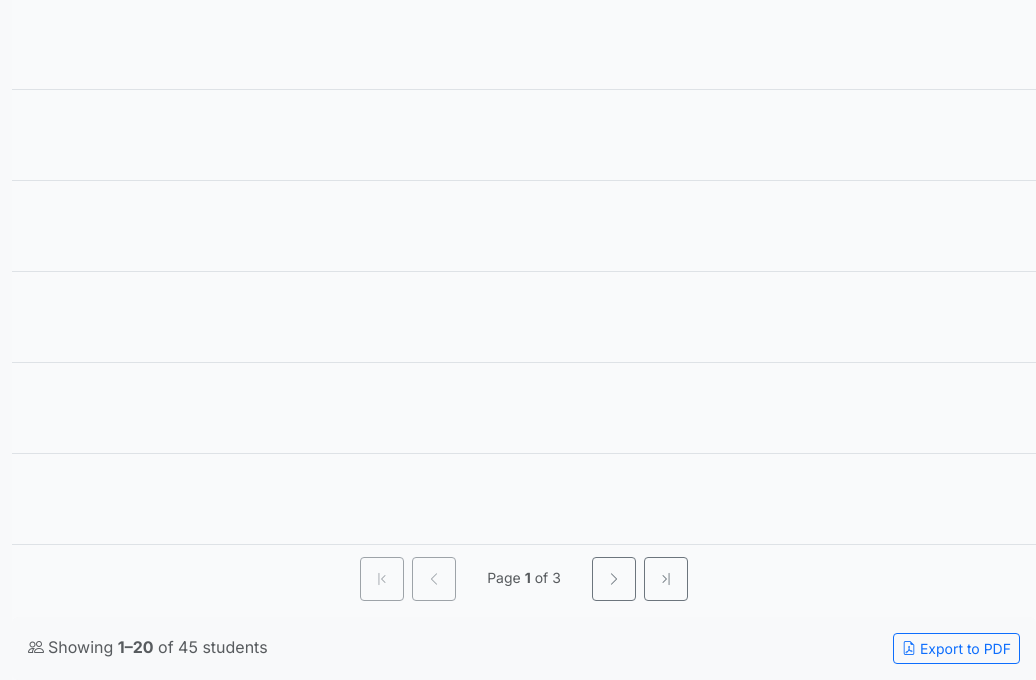
Test: 20 rows per page › Next, Last, Previous and First move through the pages; numbering continues
(page scrolled)
Click the button named "Next page" at (614, 579), box [592,557,636,601]
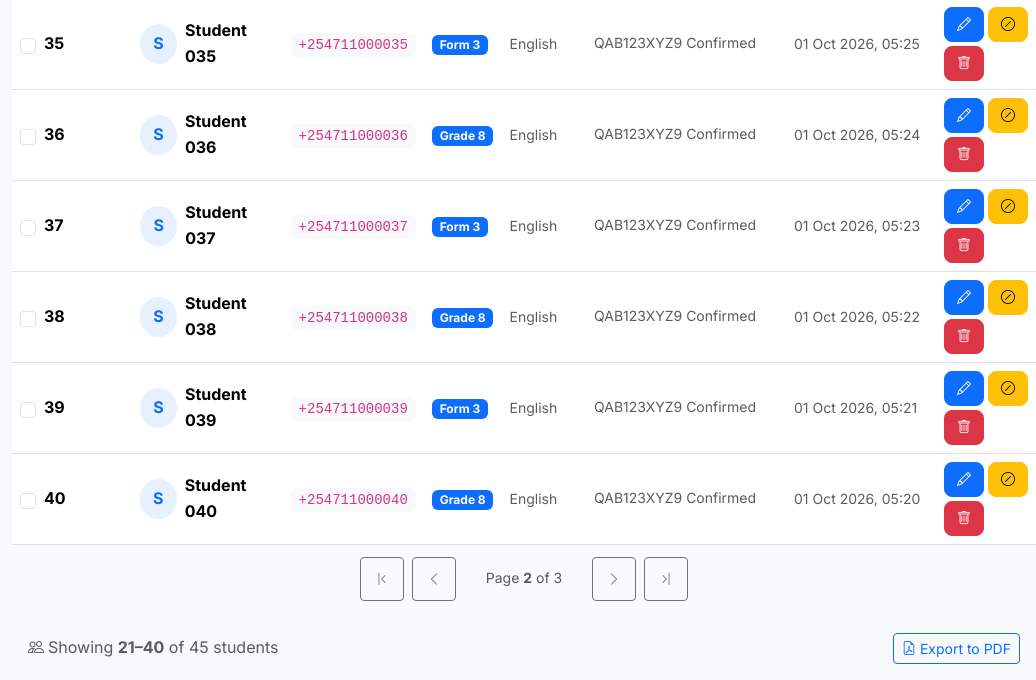
Expected: the element with test id "page-label" reads "Page 2 of 3", [486,569,562,586]
Click the button named "Last page" at (666, 579), box [644,557,688,601]
(page scrolled)
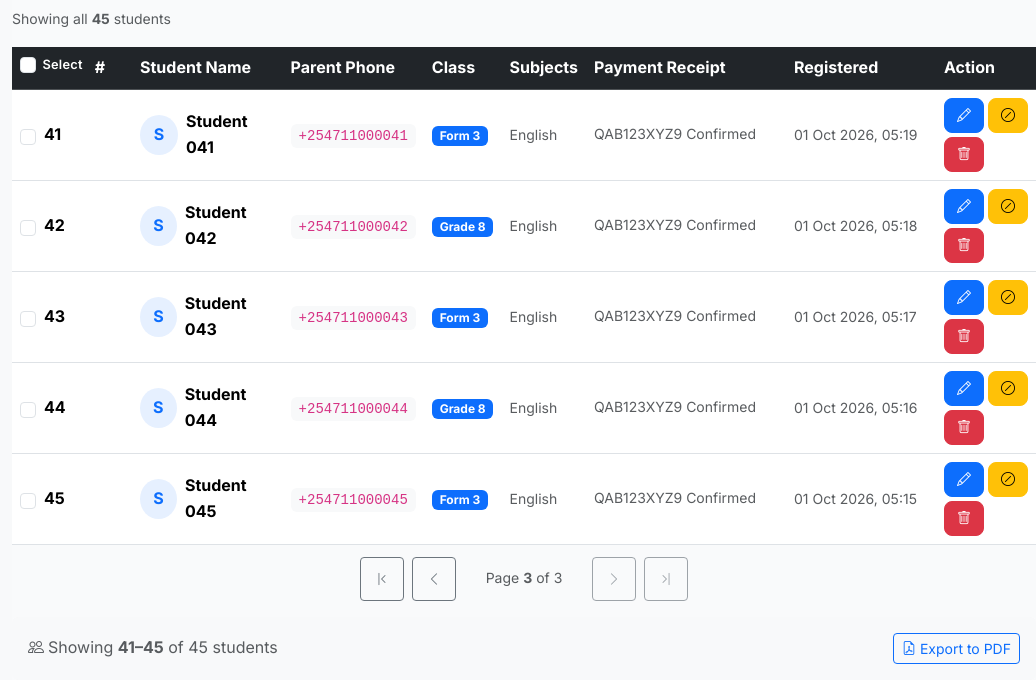
Expected: the button named "Next page" is disabled, [592,557,636,601]
Expected: the text "Student 045" is shown, [185,475,247,521]
Click the button named "Previous page" at (434, 579), box [412,557,456,601]
(page scrolled)
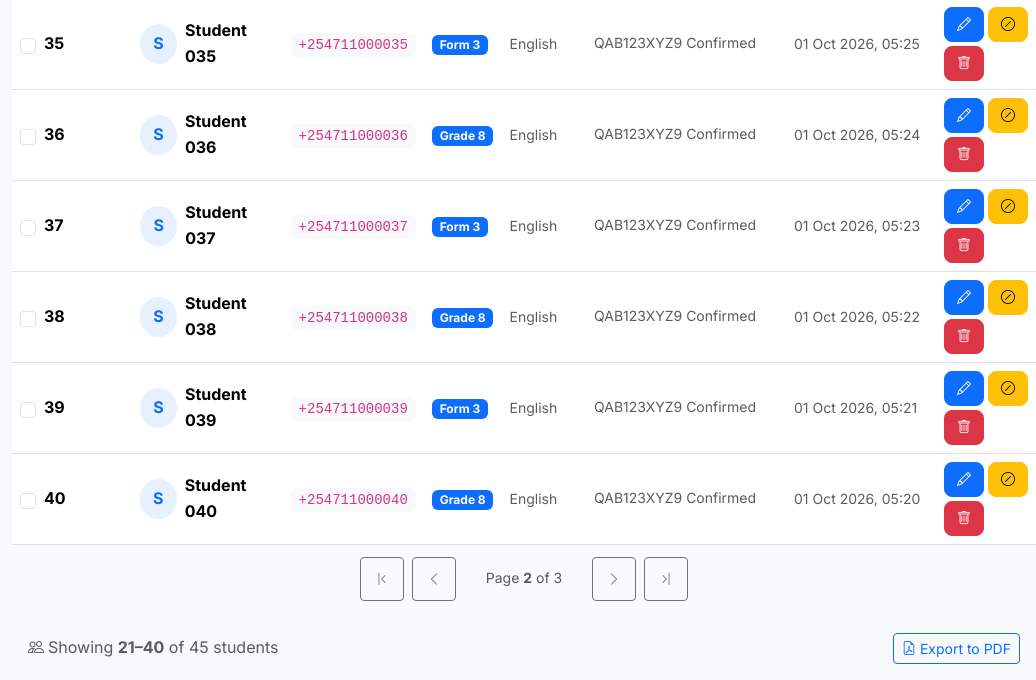
Expected: the element with test id "page-label" reads "Page 2 of 3", [486,569,562,586]
Click the button named "First page" at (382, 579), box [360,557,404,601]
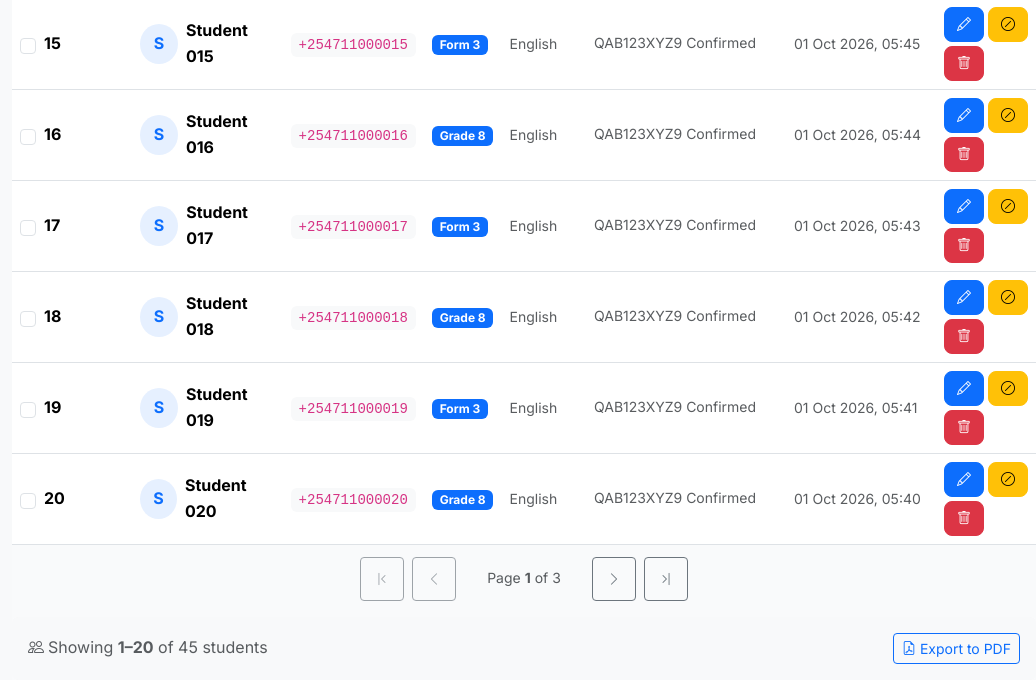
Expected: the element with test id "page-label" reads "Page 1 of 3", [487,569,561,586]
